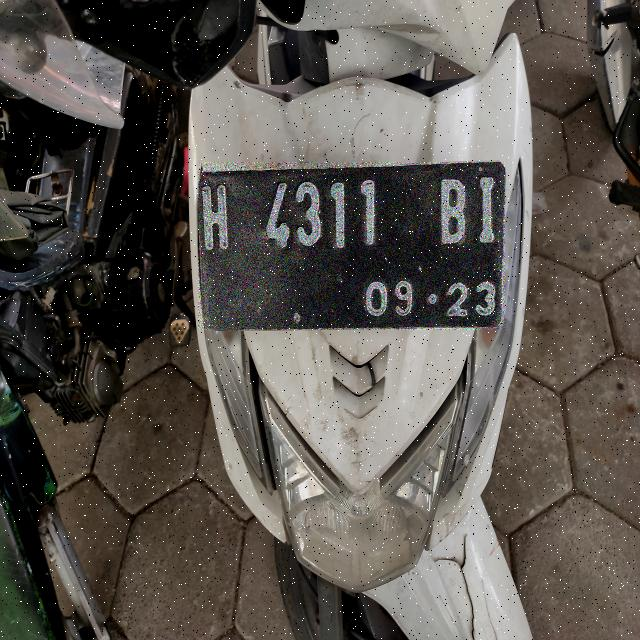plate: (199, 163, 504, 329)
